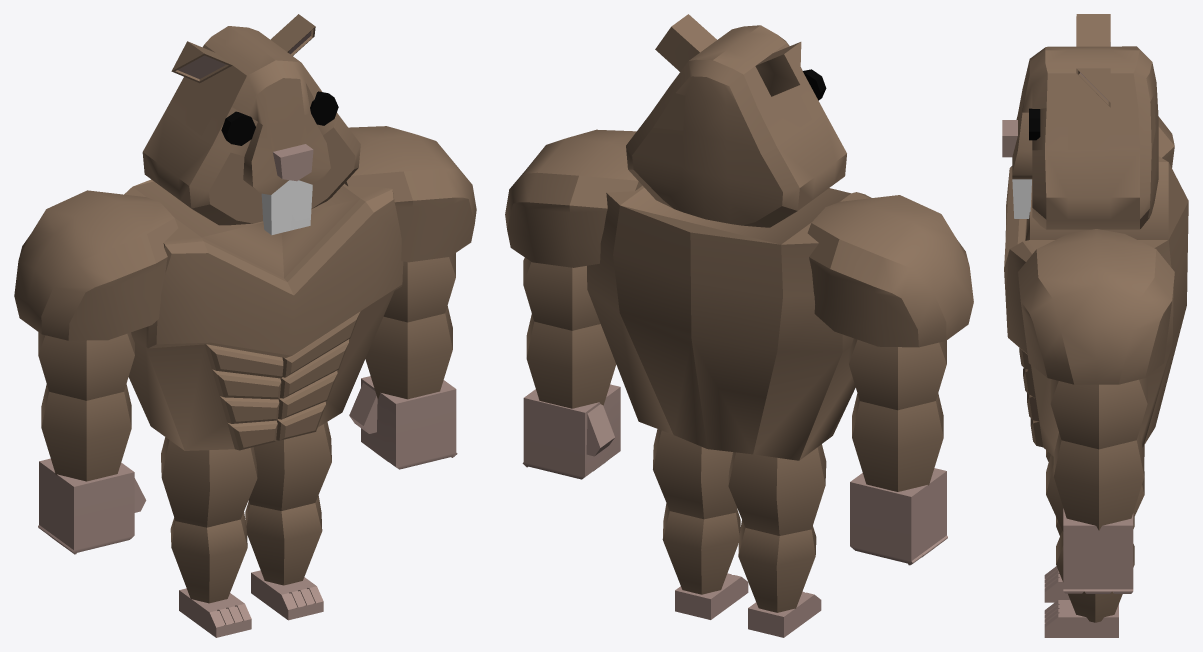
The model's file is bobo_the_hamster.fbx.
The picture shows the model from 3 angles, left to right: view 1: azimuth 30°, elevation 25°; view 2: azimuth 150°, elevation 25°; view 3: azimuth 270°, elevation 25°; orthographic projection.
Parts seen in each view (by area): view 1: polySurface260; view 2: polySurface260; view 3: polySurface260.
Boxes of the visible parts, bbox=[...] form: polySurface260: bbox=[14, 14, 476, 637]; polySurface260: bbox=[505, 14, 973, 637]; polySurface260: bbox=[1002, 14, 1188, 637].
Bounding box in the file's own units: 266 × 334 × 98.44.
